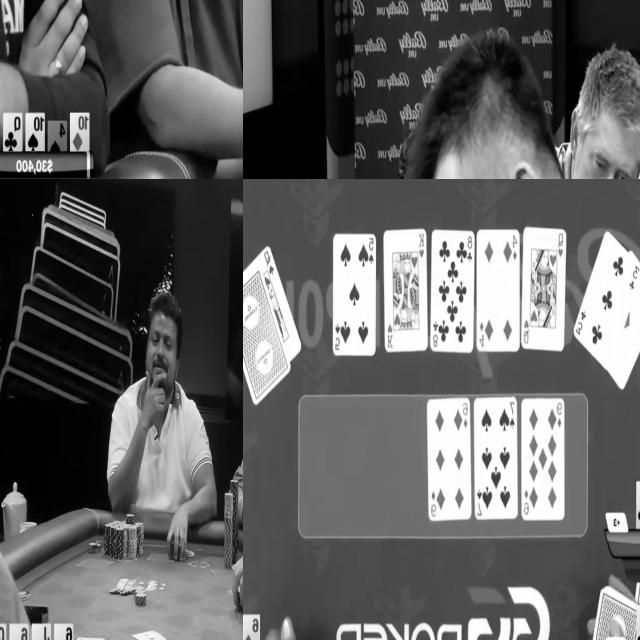10D: (70, 113, 89, 152)
10S: (26, 115, 44, 151)
4S: (48, 121, 66, 152)
6D: (243, 613, 260, 640), (10, 625, 27, 640)
6S: (55, 625, 73, 640)
JD: (32, 624, 49, 640)
QC: (4, 112, 22, 152)
